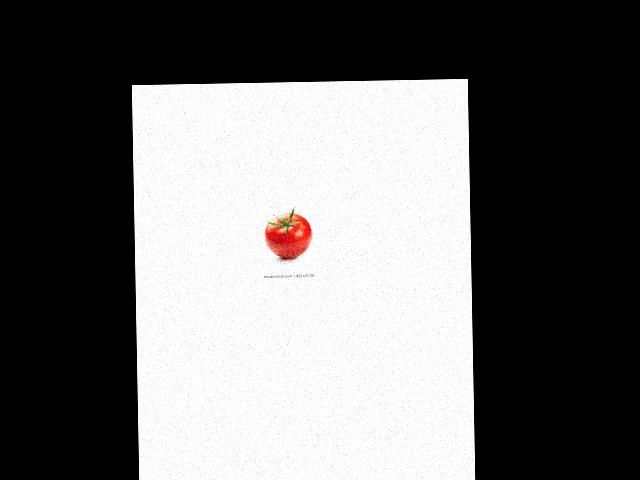tomato: (265, 212, 312, 258)
